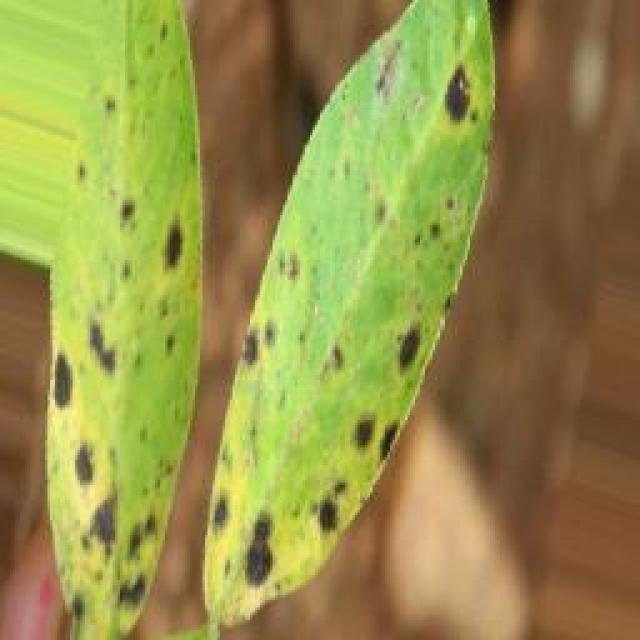Yellowish: (36, 23, 479, 602)
